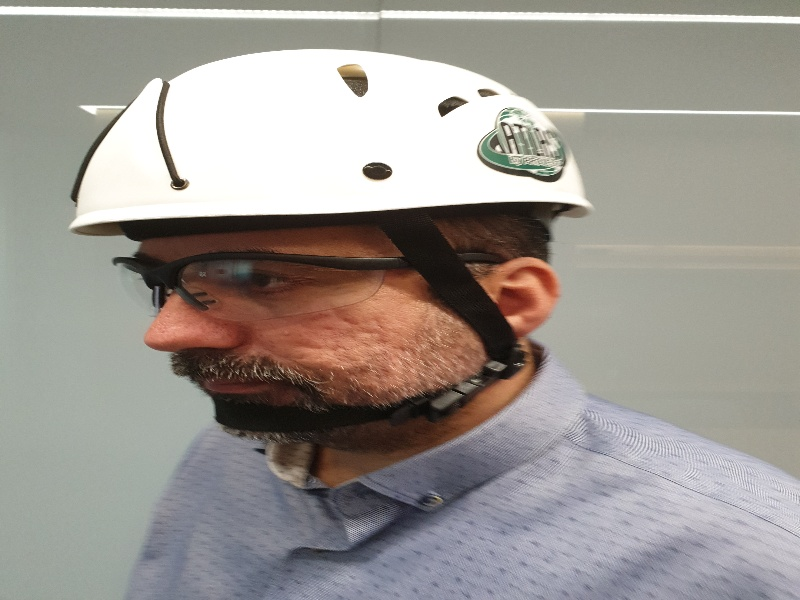Baret: (71, 48, 591, 233)
Gozluk: (109, 249, 497, 313)
